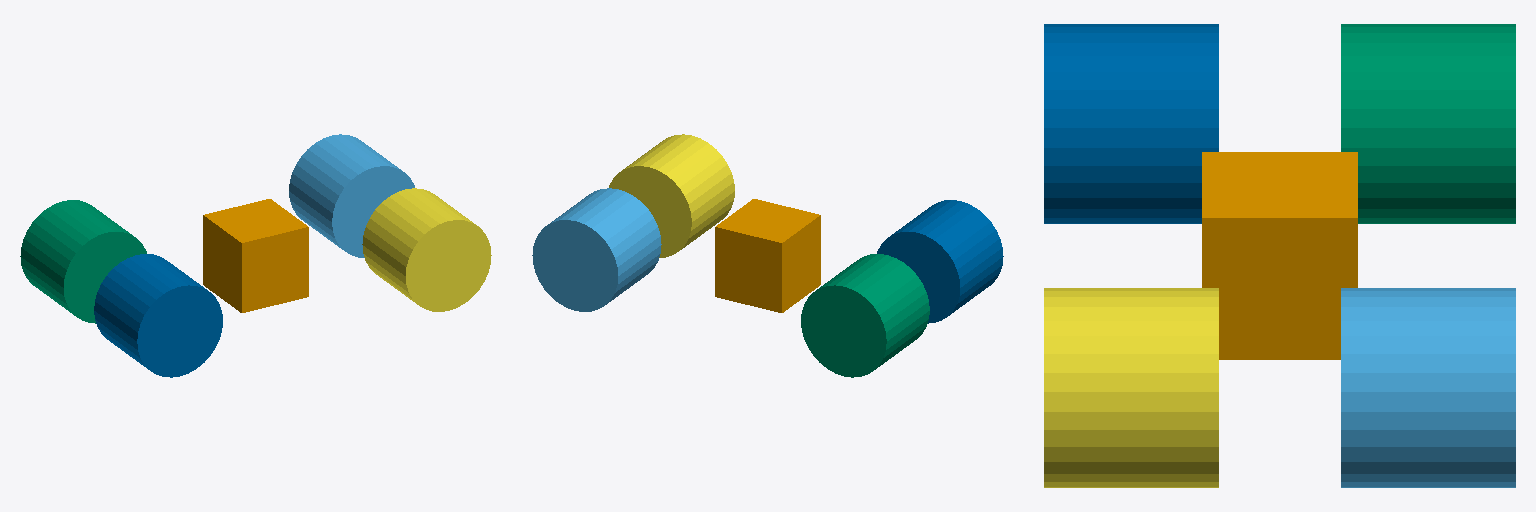
The robot description file, URDF, robot "example_track_simple_wheels":
<?xml version="1.0" ?>
<!-- =================================================================================== -->
<!-- |    This document was autogenerated by xacro from urdf_xacro/example_track_simple_wheels_gazebo.urdf.xacro | -->
<!-- |    EDITING THIS FILE BY HAND IS NOT RECOMMENDED                                 | -->
<!-- =================================================================================== -->
<robot name="example_track_simple_wheels">
  <!-- -->
  <!--                                                                                              -->
  <!-- macros for making simple track                                                               -->
  <!--     * useful when difining entities for ContinuousTrackSimple plugin                         -->
  <!--     * see gazebo_continuous_track_example/urdf/example_track_simple.urdf.xacro to know usage -->
  <!--                                                                                              -->
  <!-- macros which expand to inertial/collision/visual -->
  <!-- macros which expand to box/polyline collision and visual. convenient when defining pattern elements on a track -->
  <!-- macros for populating general links/joints -->
  <!-- track segment templates which can be used with above population macros -->
  <!-- macros for populating track segments with above population macros and above templates -->
  <!-- macro which expands to simple plugin definition -->
  <!-- main entry point: macro for making oval track by ContinuousTrackSimple plugin -->
  <!-- URDF file for general ROS systems such as ros_control, rviz, etc.           -->
  <!-- We define here;                                                             -->
  <!--     * a base_link to be wrapped by the track                                     -->
  <!--     * a sprocket to drive the track                                         -->
  <!--     * an axle and actuator for the sprocket                                 -->
  <!--     * an idler wheel on the other side of the sprocket                      -->
  <!-- Other entities specialized for Gazebo are defined in *_gazebo.urdf.xacro .  -->
  <!-- base_link to be wrapped by the track -->
  <link name="base_link">
    <inertial>
      <mass value="1"/>
      <inertia ixx="0.009635416666666667" ixy="0" ixz="0" iyy="0.021666666666666667" iyz="0" izz="0.029635416666666668"/>
    </inertial>
    <visual>
      <geometry>
        <box size="0.1 0.1 0.1"/>
      </geometry>
    </visual>
    <collision>
      <geometry>
        <box size="0.1 0.1 0.1"/>
      </geometry>
    </collision>
  </link>
  <!-- sprocket driving the track -->
  <link name="sprocket_left">
    <inertial>
      <mass value="0.2"/>
      <!-- assuming axis of cylinder is y, not z -->
      <inertia ixx="0.0004120041666666667" ixy="0" ixz="0" iyy="0.00040960000000000004" iyz="0" izz="0.0004120041666666667"/>
    </inertial>
    <visual>
      <origin rpy="1.5707963267948966 0 0" xyz="0 0 0"/>
      <geometry>
        <cylinder length="0.1115" radius="0.064"/>
      </geometry>
    </visual>
    <visual>
      <geometry>
        <box size="0.01 0.1115 0.1"/>
      </geometry>
    </visual>
    <visual>
      <geometry>
        <box size="0.1 0.1115 0.01"/>
      </geometry>
    </visual>
    <collision>
      <origin rpy="1.5707963267948966 0 0" xyz="0 0 0"/>
      <geometry>
        <cylinder length="0.1115" radius="0.064"/>
      </geometry>
    </collision>
  </link>
  <joint name="sprocket_left_axle" type="continuous">
    <origin rpy="0 0 0" xyz="0.2 0.095 0"/>
    <parent link="base_link"/>
    <child link="sprocket_left"/>
    <axis xyz="0 1 0"/>
  </joint>
  <transmission name="sprocket_left_transmission">
    <type>transmission_interface/SimpleTransmission</type>
    <joint name="sprocket_left_axle">
      <hardwareInterface>hardware_interface/VelocityJointInterface</hardwareInterface>
    </joint>
    <actuator name="sprocket_left_actuator">
      <mechanicalReduction>1</mechanicalReduction>
    </actuator>
  </transmission>
  <!-- idler on the other side of the sprocket -->
  <link name="idler_left">
    <inertial>
      <mass value="0.2"/>
      <!-- assuming axis of cylinder is y, not z -->
      <inertia ixx="0.0004120041666666667" ixy="0" ixz="0" iyy="0.00040960000000000004" iyz="0" izz="0.0004120041666666667"/>
    </inertial>
    <visual>
      <origin rpy="1.5707963267948966 0 0" xyz="0 0 0"/>
      <geometry>
        <cylinder length="0.1115" radius="0.064"/>
      </geometry>
    </visual>
    <collision>
      <origin rpy="1.5707963267948966 0 0" xyz="0 0 0"/>
      <geometry>
        <cylinder length="0.1115" radius="0.064"/>
      </geometry>
    </collision>
  </link>
  <joint name="idler_left_axle" type="fixed">
    <origin rpy="0 0 0" xyz="-0.2 0.095 0"/>
    <parent link="base_link"/>
    <child link="idler_left"/>
  </joint>
  <!-- sprocket driving the track -->
  <link name="sprocket_right">
    <inertial>
      <mass value="0.2"/>
      <!-- assuming axis of cylinder is y, not z -->
      <inertia ixx="0.0004120041666666667" ixy="0" ixz="0" iyy="0.00040960000000000004" iyz="0" izz="0.0004120041666666667"/>
    </inertial>
    <visual>
      <origin rpy="1.5707963267948966 0 0" xyz="0 0 0"/>
      <geometry>
        <cylinder length="0.1115" radius="0.064"/>
      </geometry>
    </visual>
    <visual>
      <geometry>
        <box size="0.01 0.1115 0.1"/>
      </geometry>
    </visual>
    <visual>
      <geometry>
        <box size="0.1 0.1115 0.01"/>
      </geometry>
    </visual>
    <collision>
      <origin rpy="1.5707963267948966 0 0" xyz="0 0 0"/>
      <geometry>
        <cylinder length="0.1115" radius="0.064"/>
      </geometry>
    </collision>
  </link>
  <joint name="sprocket_right_axle" type="continuous">
    <origin rpy="0 0 0" xyz="0.2 -0.095 0"/>
    <parent link="base_link"/>
    <child link="sprocket_right"/>
    <axis xyz="0 1 0"/>
  </joint>
  <transmission name="sprocket_right_transmission">
    <type>transmission_interface/SimpleTransmission</type>
    <joint name="sprocket_right_axle">
      <hardwareInterface>hardware_interface/VelocityJointInterface</hardwareInterface>
    </joint>
    <actuator name="sprocket_right_actuator">
      <mechanicalReduction>1</mechanicalReduction>
    </actuator>
  </transmission>
  <!-- idler on the other side of the sprocket -->
  <link name="idler_right">
    <inertial>
      <mass value="0.2"/>
      <!-- assuming axis of cylinder is y, not z -->
      <inertia ixx="0.0004120041666666667" ixy="0" ixz="0" iyy="0.00040960000000000004" iyz="0" izz="0.0004120041666666667"/>
    </inertial>
    <visual>
      <origin rpy="1.5707963267948966 0 0" xyz="0 0 0"/>
      <geometry>
        <cylinder length="0.1115" radius="0.064"/>
      </geometry>
    </visual>
    <collision>
      <origin rpy="1.5707963267948966 0 0" xyz="0 0 0"/>
      <geometry>
        <cylinder length="0.1115" radius="0.064"/>
      </geometry>
    </collision>
  </link>
  <joint name="idler_right_axle" type="fixed">
    <origin rpy="0 0 0" xyz="-0.2 -0.095 0"/>
    <parent link="base_link"/>
    <child link="idler_right"/>
  </joint>
  <!-- -->
  <gazebo>
    <link name="track_wheel_link0">
      <pose>0.35 0 0.125 0 0 0</pose>
      <inertial>
        <pose>0 0 -0.125 1.5707963267948966 0 0</pose>
        <mass>0.05714285714285715</mass>
        <inertia>
          <ixx>0.0014136904761904762</ixx>
          <ixy>0</ixy>
          <ixz>0</ixz>
          <iyy>0.0014136904761904762</iyy>
          <iyz>0</iyz>
          <izz>0.00044642857142857147</izz>
        </inertia>
      </inertial>
      <collision name="collision">
        <pose>0 0 -0.125 1.5707963267948966 0 0</pose>
        <geometry>
          <cylinder>
            <length>0.5</length>
            <radius>0.125</radius>
          </cylinder>
        </geometry>
        <surface>
          <friction>
            <ode>
              <mu>0.5</mu>
              <mu2>0.5</mu2>
            </ode>
          </friction>
          <contact>
            <ode>
              <min_depth>0.01</min_depth>
            </ode>
          </contact>
        </surface>
      </collision>
      <visual name="visual">
        <pose>0 0 -0.125 1.5707963267948966 0 0</pose>
        <geometry>
          <cylinder>
            <length>0.5</length>
            <radius>0.125</radius>
          </cylinder>
        </geometry>
        <material>
          <ambient>0.3 0.1 0.1 1</ambient>
          <diffuse>0.2 0.2 0.2 1</diffuse>
          <specular>0 0 0 1</specular>
          <emissive>0 0 0 1</emissive>
        </material>
      </visual>
    </link>
  </gazebo>
  <gazebo>
    <link name="track_wheel_link1">
      <pose>0.23333333333333334 0 0.125 0 0 0</pose>
      <inertial>
        <pose>0 0 -0.125 1.5707963267948966 0 0</pose>
        <mass>0.05714285714285715</mass>
        <inertia>
          <ixx>0.0014136904761904762</ixx>
          <ixy>0</ixy>
          <ixz>0</ixz>
          <iyy>0.0014136904761904762</iyy>
          <iyz>0</iyz>
          <izz>0.00044642857142857147</izz>
        </inertia>
      </inertial>
      <collision name="collision">
        <pose>0 0 -0.125 1.5707963267948966 0 0</pose>
        <geometry>
          <cylinder>
            <length>0.5</length>
            <radius>0.125</radius>
          </cylinder>
        </geometry>
        <surface>
          <friction>
            <ode>
              <mu>0.5</mu>
              <mu2>0.5</mu2>
            </ode>
          </friction>
          <contact>
            <ode>
              <min_depth>0.01</min_depth>
            </ode>
          </contact>
        </surface>
      </collision>
      <visual name="visual">
        <pose>0 0 -0.125 1.5707963267948966 0 0</pose>
        <geometry>
          <cylinder>
            <length>0.5</length>
            <radius>0.125</radius>
          </cylinder>
        </geometry>
        <material>
          <ambient>0.3 0.1 0.1 1</ambient>
          <diffuse>0.2 0.2 0.2 1</diffuse>
          <specular>0 0 0 1</specular>
          <emissive>0 0 0 1</emissive>
        </material>
      </visual>
    </link>
  </gazebo>
  <gazebo>
    <link name="track_wheel_link2">
      <pose>0.11666666666666668 0 0.125 0 0 0</pose>
      <inertial>
        <pose>0 0 -0.125 1.5707963267948966 0 0</pose>
        <mass>0.05714285714285715</mass>
        <inertia>
          <ixx>0.0014136904761904762</ixx>
          <ixy>0</ixy>
          <ixz>0</ixz>
          <iyy>0.0014136904761904762</iyy>
          <iyz>0</iyz>
          <izz>0.00044642857142857147</izz>
        </inertia>
      </inertial>
      <collision name="collision">
        <pose>0 0 -0.125 1.5707963267948966 0 0</pose>
        <geometry>
          <cylinder>
            <length>0.5</length>
            <radius>0.125</radius>
          </cylinder>
        </geometry>
        <surface>
          <friction>
            <ode>
              <mu>0.5</mu>
              <mu2>0.5</mu2>
            </ode>
          </friction>
          <contact>
            <ode>
              <min_depth>0.01</min_depth>
            </ode>
          </contact>
        </surface>
      </collision>
      <visual name="visual">
        <pose>0 0 -0.125 1.5707963267948966 0 0</pose>
        <geometry>
          <cylinder>
            <length>0.5</length>
            <radius>0.125</radius>
          </cylinder>
        </geometry>
        <material>
          <ambient>0.3 0.1 0.1 1</ambient>
          <diffuse>0.2 0.2 0.2 1</diffuse>
          <specular>0 0 0 1</specular>
          <emissive>0 0 0 1</emissive>
        </material>
      </visual>
    </link>
  </gazebo>
  <gazebo>
    <link name="track_wheel_link3">
      <pose>2.7755575615628914e-17 0 0.125 0 0 0</pose>
      <inertial>
        <pose>0 0 -0.125 1.5707963267948966 0 0</pose>
        <mass>0.05714285714285715</mass>
        <inertia>
          <ixx>0.0014136904761904762</ixx>
          <ixy>0</ixy>
          <ixz>0</ixz>
          <iyy>0.0014136904761904762</iyy>
          <iyz>0</iyz>
          <izz>0.00044642857142857147</izz>
        </inertia>
      </inertial>
      <collision name="collision">
        <pose>0 0 -0.125 1.5707963267948966 0 0</pose>
        <geometry>
          <cylinder>
            <length>0.5</length>
            <radius>0.125</radius>
          </cylinder>
        </geometry>
        <surface>
          <friction>
            <ode>
              <mu>0.5</mu>
              <mu2>0.5</mu2>
            </ode>
          </friction>
          <contact>
            <ode>
              <min_depth>0.01</min_depth>
            </ode>
          </contact>
        </surface>
      </collision>
      <visual name="visual">
        <pose>0 0 -0.125 1.5707963267948966 0 0</pose>
        <geometry>
          <cylinder>
            <length>0.5</length>
            <radius>0.125</radius>
          </cylinder>
        </geometry>
        <material>
          <ambient>0.3 0.1 0.1 1</ambient>
          <diffuse>0.2 0.2 0.2 1</diffuse>
          <specular>0 0 0 1</specular>
          <emissive>0 0 0 1</emissive>
        </material>
      </visual>
    </link>
  </gazebo>
  <gazebo>
    <link name="track_wheel_link4">
      <pose>-0.11666666666666663 0 0.125 0 0 0</pose>
      <inertial>
        <pose>0 0 -0.125 1.5707963267948966 0 0</pose>
        <mass>0.05714285714285715</mass>
        <inertia>
          <ixx>0.0014136904761904762</ixx>
          <ixy>0</ixy>
          <ixz>0</ixz>
          <iyy>0.0014136904761904762</iyy>
          <iyz>0</iyz>
          <izz>0.00044642857142857147</izz>
        </inertia>
      </inertial>
      <collision name="collision">
        <pose>0 0 -0.125 1.5707963267948966 0 0</pose>
        <geometry>
          <cylinder>
            <length>0.5</length>
            <radius>0.125</radius>
          </cylinder>
        </geometry>
        <surface>
          <friction>
            <ode>
              <mu>0.5</mu>
              <mu2>0.5</mu2>
            </ode>
          </friction>
          <contact>
            <ode>
              <min_depth>0.01</min_depth>
            </ode>
          </contact>
        </surface>
      </collision>
      <visual name="visual">
        <pose>0 0 -0.125 1.5707963267948966 0 0</pose>
        <geometry>
          <cylinder>
            <length>0.5</length>
            <radius>0.125</radius>
          </cylinder>
        </geometry>
        <material>
          <ambient>0.3 0.1 0.1 1</ambient>
          <diffuse>0.2 0.2 0.2 1</diffuse>
          <specular>0 0 0 1</specular>
          <emissive>0 0 0 1</emissive>
        </material>
      </visual>
    </link>
  </gazebo>
  <gazebo>
    <link name="track_wheel_link5">
      <pose>-0.23333333333333328 0 0.125 0 0 0</pose>
      <inertial>
        <pose>0 0 -0.125 1.5707963267948966 0 0</pose>
        <mass>0.05714285714285715</mass>
        <inertia>
          <ixx>0.0014136904761904762</ixx>
          <ixy>0</ixy>
          <ixz>0</ixz>
          <iyy>0.0014136904761904762</iyy>
          <iyz>0</iyz>
          <izz>0.00044642857142857147</izz>
        </inertia>
      </inertial>
      <collision name="collision">
        <pose>0 0 -0.125 1.5707963267948966 0 0</pose>
        <geometry>
          <cylinder>
            <length>0.5</length>
            <radius>0.125</radius>
          </cylinder>
        </geometry>
        <surface>
          <friction>
            <ode>
              <mu>0.5</mu>
              <mu2>0.5</mu2>
            </ode>
          </friction>
          <contact>
            <ode>
              <min_depth>0.01</min_depth>
            </ode>
          </contact>
        </surface>
      </collision>
      <visual name="visual">
        <pose>0 0 -0.125 1.5707963267948966 0 0</pose>
        <geometry>
          <cylinder>
            <length>0.5</length>
            <radius>0.125</radius>
          </cylinder>
        </geometry>
        <material>
          <ambient>0.3 0.1 0.1 1</ambient>
          <diffuse>0.2 0.2 0.2 1</diffuse>
          <specular>0 0 0 1</specular>
          <emissive>0 0 0 1</emissive>
        </material>
      </visual>
    </link>
  </gazebo>
  <gazebo>
    <link name="track_wheel_link6">
      <pose>-0.3499999999999999 0 0.125 0 0 0</pose>
      <inertial>
        <pose>0 0 -0.125 1.5707963267948966 0 0</pose>
        <mass>0.05714285714285715</mass>
        <inertia>
          <ixx>0.0014136904761904762</ixx>
          <ixy>0</ixy>
          <ixz>0</ixz>
          <iyy>0.0014136904761904762</iyy>
          <iyz>0</iyz>
          <izz>0.00044642857142857147</izz>
        </inertia>
      </inertial>
      <collision name="collision">
        <pose>0 0 -0.125 1.5707963267948966 0 0</pose>
        <geometry>
          <cylinder>
            <length>0.5</length>
            <radius>0.125</radius>
          </cylinder>
        </geometry>
        <surface>
          <friction>
            <ode>
              <mu>0.5</mu>
              <mu2>0.5</mu2>
            </ode>
          </friction>
          <contact>
            <ode>
              <min_depth>0.01</min_depth>
            </ode>
          </contact>
        </surface>
      </collision>
      <visual name="visual">
        <pose>0 0 -0.125 1.5707963267948966 0 0</pose>
        <geometry>
          <cylinder>
            <length>0.5</length>
            <radius>0.125</radius>
          </cylinder>
        </geometry>
        <material>
          <ambient>0.3 0.1 0.1 1</ambient>
          <diffuse>0.2 0.2 0.2 1</diffuse>
          <specular>0 0 0 1</specular>
          <emissive>0 0 0 1</emissive>
        </material>
      </visual>
    </link>
  </gazebo>
  <gazebo>
    <joint name="track_wheel_joint0" type="revolute">
      <child>track_wheel_link0</child>
      <parent>body</parent>
      <pose>0 0 -0.125 0 0 0</pose>
      <axis>
        <xyz>0 1 0</xyz>
        <use_parent_model_frame>0</use_parent_model_frame>
      </axis>
      <physics>
        <ode>
          <implicit_spring_damper>1</implicit_spring_damper>
        </ode>
      </physics>
    </joint>
  </gazebo>
  <gazebo>
    <joint name="track_wheel_joint1" type="revolute">
      <child>track_wheel_link1</child>
      <parent>body</parent>
      <pose>0 0 -0.125 0 0 0</pose>
      <axis>
        <xyz>0 1 0</xyz>
        <use_parent_model_frame>0</use_parent_model_frame>
      </axis>
      <physics>
        <ode>
          <implicit_spring_damper>1</implicit_spring_damper>
        </ode>
      </physics>
    </joint>
  </gazebo>
  <gazebo>
    <joint name="track_wheel_joint2" type="revolute">
      <child>track_wheel_link2</child>
      <parent>body</parent>
      <pose>0 0 -0.125 0 0 0</pose>
      <axis>
        <xyz>0 1 0</xyz>
        <use_parent_model_frame>0</use_parent_model_frame>
      </axis>
      <physics>
        <ode>
          <implicit_spring_damper>1</implicit_spring_damper>
        </ode>
      </physics>
    </joint>
  </gazebo>
  <gazebo>
    <joint name="track_wheel_joint3" type="revolute">
      <child>track_wheel_link3</child>
      <parent>body</parent>
      <pose>0 0 -0.125 0 0 0</pose>
      <axis>
        <xyz>0 1 0</xyz>
        <use_parent_model_frame>0</use_parent_model_frame>
      </axis>
      <physics>
        <ode>
          <implicit_spring_damper>1</implicit_spring_damper>
        </ode>
      </physics>
    </joint>
  </gazebo>
  <gazebo>
    <joint name="track_wheel_joint4" type="revolute">
      <child>track_wheel_link4</child>
      <parent>body</parent>
      <pose>0 0 -0.125 0 0 0</pose>
      <axis>
        <xyz>0 1 0</xyz>
        <use_parent_model_frame>0</use_parent_model_frame>
      </axis>
      <physics>
        <ode>
          <implicit_spring_damper>1</implicit_spring_damper>
        </ode>
      </physics>
    </joint>
  </gazebo>
  <gazebo>
    <joint name="track_wheel_joint5" type="revolute">
      <child>track_wheel_link5</child>
      <parent>body</parent>
      <pose>0 0 -0.125 0 0 0</pose>
      <axis>
        <xyz>0 1 0</xyz>
        <use_parent_model_frame>0</use_parent_model_frame>
      </axis>
      <physics>
        <ode>
          <implicit_spring_damper>1</implicit_spring_damper>
        </ode>
      </physics>
    </joint>
  </gazebo>
  <gazebo>
    <joint name="track_wheel_joint6" type="revolute">
      <child>track_wheel_link6</child>
      <parent>body</parent>
      <pose>0 0 -0.125 0 0 0</pose>
      <axis>
        <xyz>0 1 0</xyz>
        <use_parent_model_frame>0</use_parent_model_frame>
      </axis>
      <physics>
        <ode>
          <implicit_spring_damper>1</implicit_spring_damper>
        </ode>
      </physics>
    </joint>
  </gazebo>
  <gazebo>
    <plugin filename="libContinuousTrackSimple.so" name="track">
      <sprocket>
        <joint>sprocket_axle</joint>
        <pitch_diameter>0.24</pitch_diameter>
      </sprocket>
      <track>
        <segment>
          <joint>track_wheel_joint0</joint>
          <pitch_diameter>0.24</pitch_diameter>
        </segment>
        <segment>
          <joint>track_wheel_joint1</joint>
          <pitch_diameter>0.24</pitch_diameter>
        </segment>
        <segment>
          <joint>track_wheel_joint2</joint>
          <pitch_diameter>0.24</pitch_diameter>
        </segment>
        <segment>
          <joint>track_wheel_joint3</joint>
          <pitch_diameter>0.24</pitch_diameter>
        </segment>
        <segment>
          <joint>track_wheel_joint4</joint>
          <pitch_diameter>0.24</pitch_diameter>
        </segment>
        <segment>
          <joint>track_wheel_joint5</joint>
          <pitch_diameter>0.24</pitch_diameter>
        </segment>
        <segment>
          <joint>track_wheel_joint6</joint>
          <pitch_diameter>0.24</pitch_diameter>
        </segment>
      </track>
    </plugin>
  </gazebo>
  <!-- ros_control for gazebo -->
  <gazebo>
    <plugin filename="libgazebo_ros_control.so" name="gazebo_ros_control">
      <robotSimType>gazebo_ros_control/DefaultRobotHWSim</robotSimType>
      <legacyModeNS>false</legacyModeNS>
    </plugin>
  </gazebo>
</robot>

--- What the picture shows (computed from the rendered views, not written in the file) ---
3 views of the same robot in one strip: view 1: azimuth 30°, elevation 25°; view 2: azimuth 150°, elevation 25°; view 3: azimuth 270°, elevation 25° (orthographic).
Robot: example_track_simple_wheels — 5 links, 4 joints (2 continuous, 2 fixed); root link base_link; default pose: all joints at 0.
Visible links, largest first — view 1: sprocket_right, idler_right, base_link, idler_left, sprocket_left; view 2: sprocket_left, idler_left, base_link, idler_right, sprocket_right; view 3: sprocket_left, sprocket_right, idler_left, idler_right, base_link.
Boxes of the visible links, <box> form: sprocket_right: <box>362,188,491,311</box>; idler_right: <box>94,254,222,377</box>; base_link: <box>203,199,308,312</box>; idler_left: <box>20,200,146,323</box>; sprocket_left: <box>289,134,414,257</box>; sprocket_left: <box>532,188,661,311</box>; idler_left: <box>801,254,929,377</box>; base_link: <box>715,199,820,312</box>; idler_right: <box>877,200,1003,323</box>; sprocket_right: <box>609,134,734,257</box>; sprocket_left: <box>1341,288,1515,487</box>; sprocket_right: <box>1044,288,1218,487</box>; idler_left: <box>1341,24,1515,223</box>; idler_right: <box>1044,24,1218,223</box>; base_link: <box>1202,152,1357,359</box>.
Bounding box of the posed robot: 0.528 × 0.3015 × 0.128 m (x, y, z).
Geometry: primitives only (box / cylinder / sphere), no mesh files.